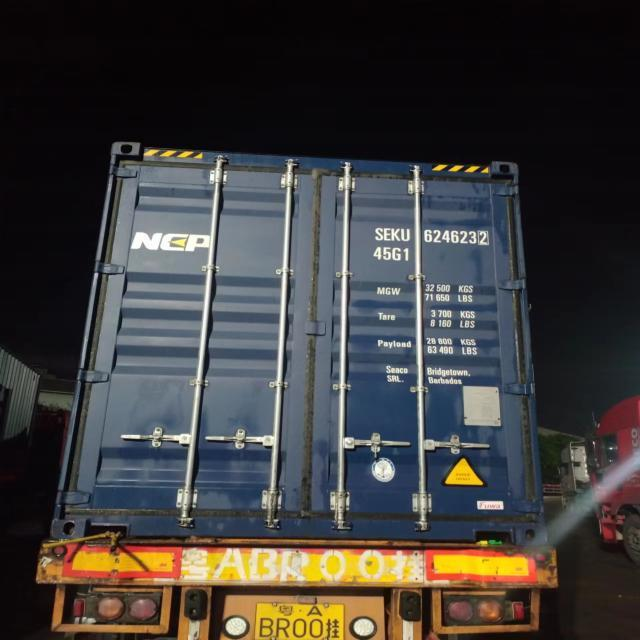ISO: (376, 246, 410, 262)
container_number: (373, 227, 489, 247)
